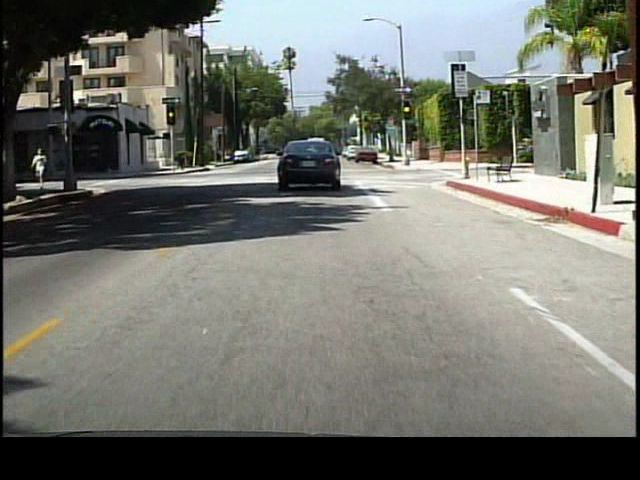person: (35, 145, 54, 191)
